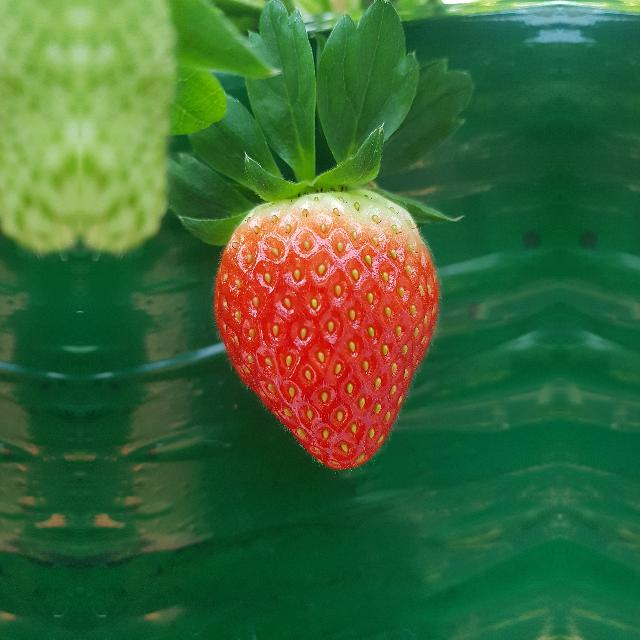Health_100: (212, 188, 440, 470)
